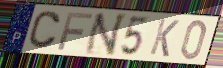0: (179, 19, 208, 62)
5: (118, 15, 152, 57)
C: (26, 10, 62, 50)
F: (56, 11, 95, 52)
K: (147, 17, 181, 59)
N: (82, 13, 130, 57)
